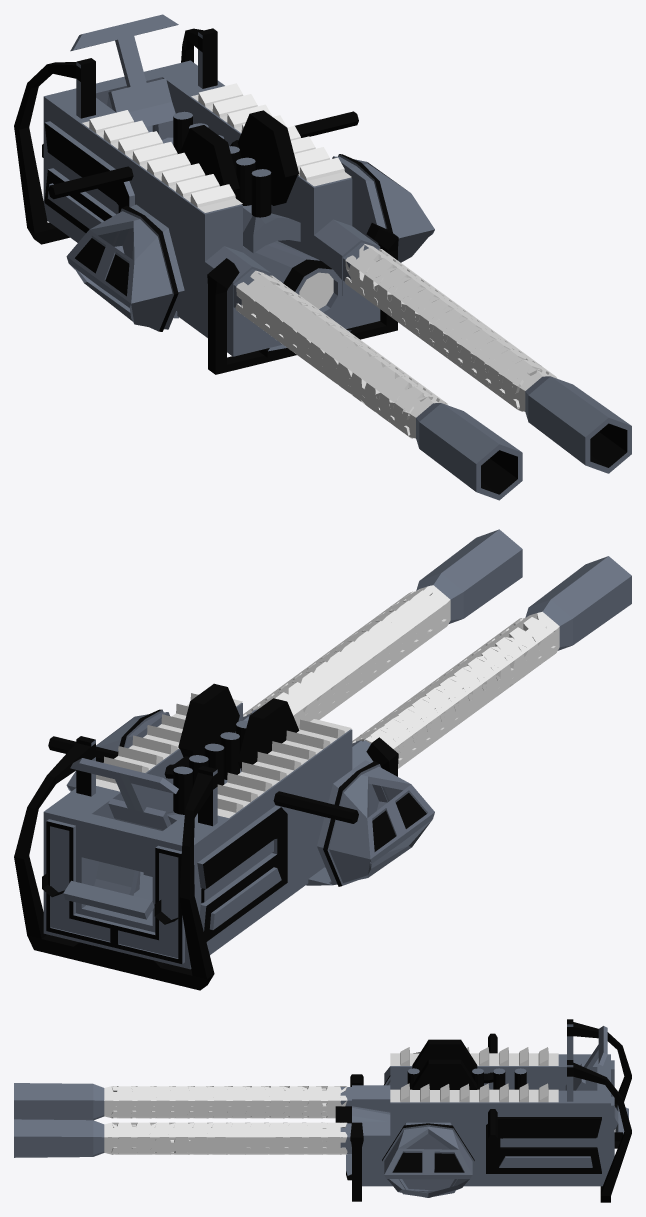
File: Weap D.fbx
3 renders of one model, top to bottom at view 1: azimuth 30°, elevation 25°; view 2: azimuth 150°, elevation 25°; view 3: azimuth 270°, elevation 25°, orthographic. The views are drawn at different scales.
Visible parts, largest first — view 1: Cube; view 2: Cube; view 3: Cube.
Boxes of the visible parts, left/top/right/bottom form: Cube: left=14, top=14, right=631, bottom=500; Cube: left=14, top=529, right=631, bottom=990; Cube: left=14, top=1019, right=631, bottom=1202.
Bounding box in the file's own units: 69.57 × 43.44 × 179.
